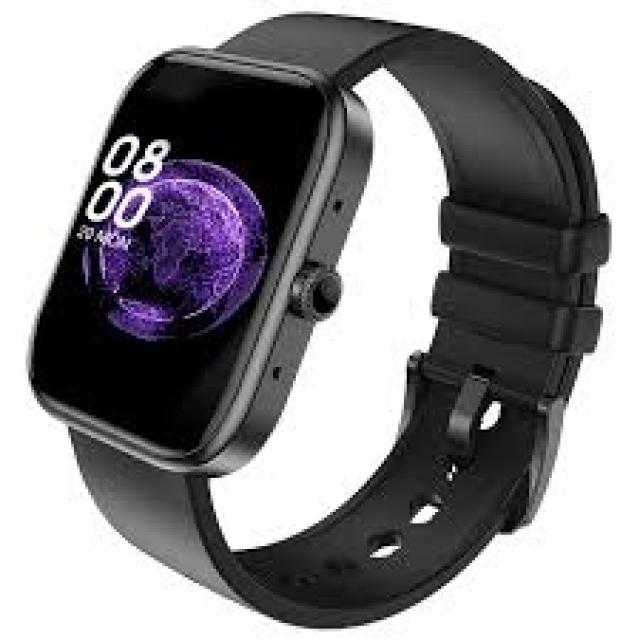objects: (31, 14, 606, 626)
